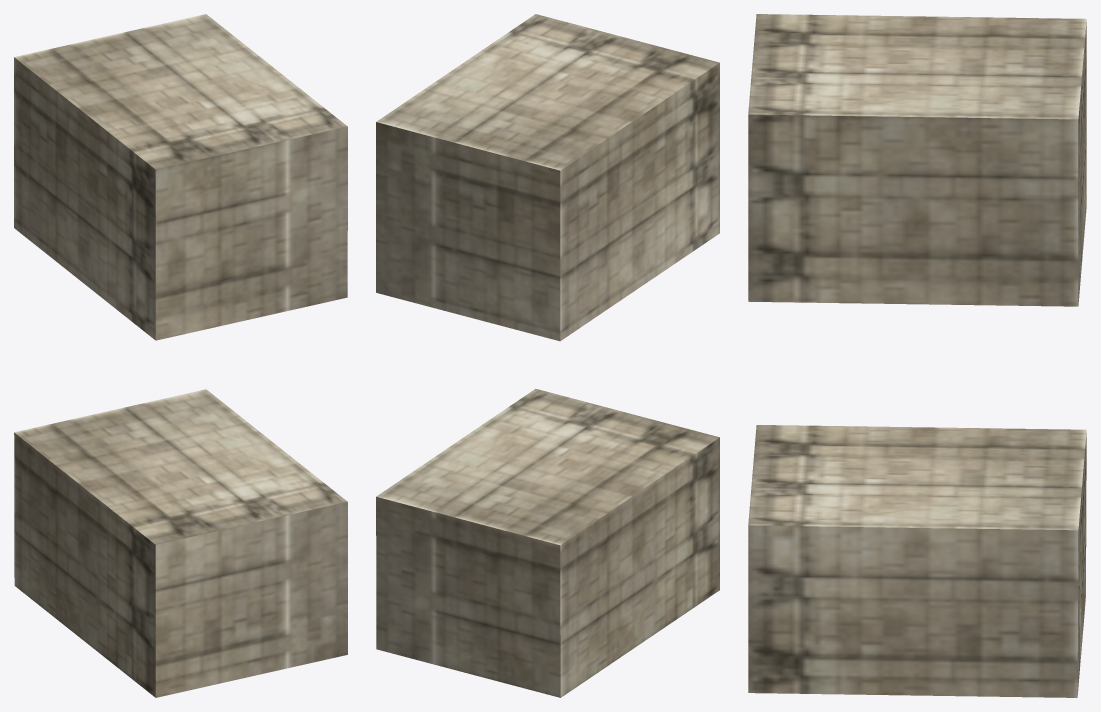
The model's file is walls_and_columns_10.fbx.
The picture shows the model from 3 angles, left to right: view 1: azimuth 30°, elevation 25°; view 2: azimuth 150°, elevation 25°; view 3: azimuth 270°, elevation 25°; orthographic projection. The views are drawn at different scales.
Parts seen in each view (by area): view 1: walls_and_columns_10; view 2: walls_and_columns_10; view 3: walls_and_columns_10.
Part boxes in pixels (x1=…): walls_and_columns_10: x1=14, y1=14, x2=347, y2=697; walls_and_columns_10: x1=376, y1=14, x2=719, y2=697; walls_and_columns_10: x1=748, y1=14, x2=1086, y2=697.
Bounding box in the file's own units: 283 × 724 × 384.
